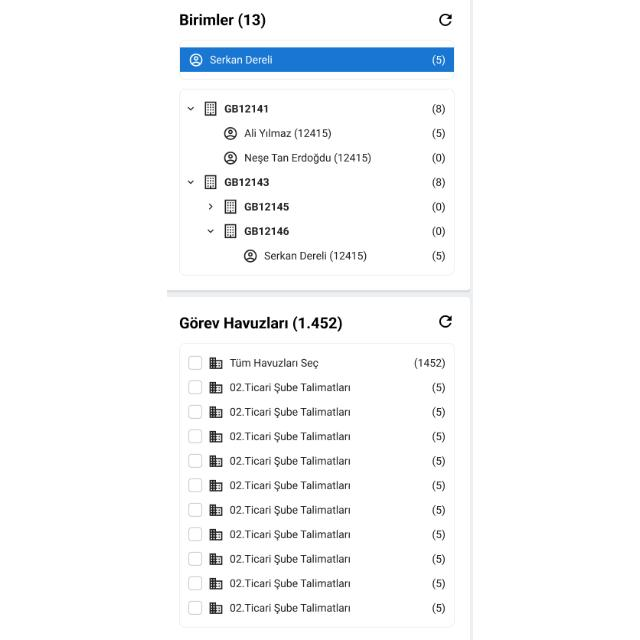QLabel: (176, 315, 348, 331), (225, 528, 352, 540), (225, 504, 352, 516), (245, 153, 372, 165), (226, 577, 352, 589), (228, 602, 352, 614), (226, 552, 350, 564), (180, 12, 268, 28), (226, 431, 352, 442), (226, 407, 352, 418), (226, 480, 352, 490), (226, 382, 352, 392), (226, 456, 352, 466), (264, 251, 368, 263), (243, 128, 331, 140), (227, 358, 321, 368), (208, 54, 274, 66), (243, 226, 289, 237), (223, 177, 270, 187), (244, 202, 290, 212), (414, 356, 446, 369), (223, 104, 269, 112), (432, 53, 446, 67), (433, 103, 445, 115), (433, 226, 445, 238), (433, 201, 445, 213), (433, 250, 445, 262), (433, 529, 445, 541), (433, 177, 445, 189), (433, 554, 445, 566), (433, 128, 445, 140), (433, 456, 445, 468), (433, 603, 445, 615), (433, 152, 445, 164), (433, 480, 445, 492), (433, 578, 445, 590), (433, 431, 445, 443), (433, 382, 445, 394), (433, 407, 445, 419), (433, 504, 445, 516)
VCard: (168, 300, 470, 634), (178, 87, 458, 275), (179, 39, 455, 81)
VCheckbox: (188, 404, 202, 420), (188, 551, 202, 565), (188, 429, 202, 443), (188, 576, 202, 590), (188, 478, 202, 492), (188, 527, 202, 541), (188, 356, 202, 370), (188, 503, 202, 517), (188, 601, 202, 615), (188, 380, 202, 394), (188, 454, 202, 468)
VIcon: (222, 198, 238, 216), (222, 223, 238, 239), (203, 101, 217, 117), (203, 174, 217, 190), (439, 314, 453, 328), (439, 12, 453, 26), (224, 126, 236, 140), (244, 250, 256, 262), (210, 602, 222, 614), (224, 152, 236, 164), (210, 578, 222, 590), (210, 553, 222, 565), (210, 504, 222, 516), (210, 480, 222, 492), (210, 431, 222, 443), (210, 406, 222, 418), (210, 455, 222, 467), (210, 382, 222, 394), (210, 357, 222, 369), (190, 54, 202, 66), (210, 530, 222, 540), (184, 179, 196, 185), (206, 202, 214, 210), (207, 228, 215, 234), (186, 106, 194, 110)
